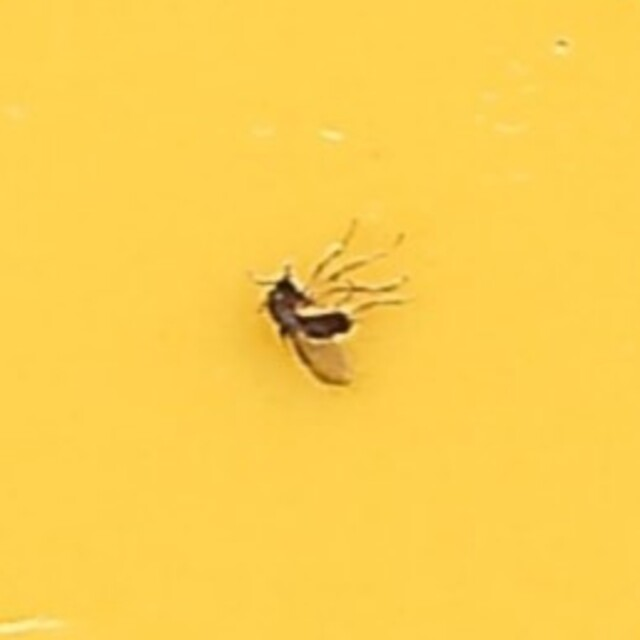Nematocera: (249, 243, 391, 397)
